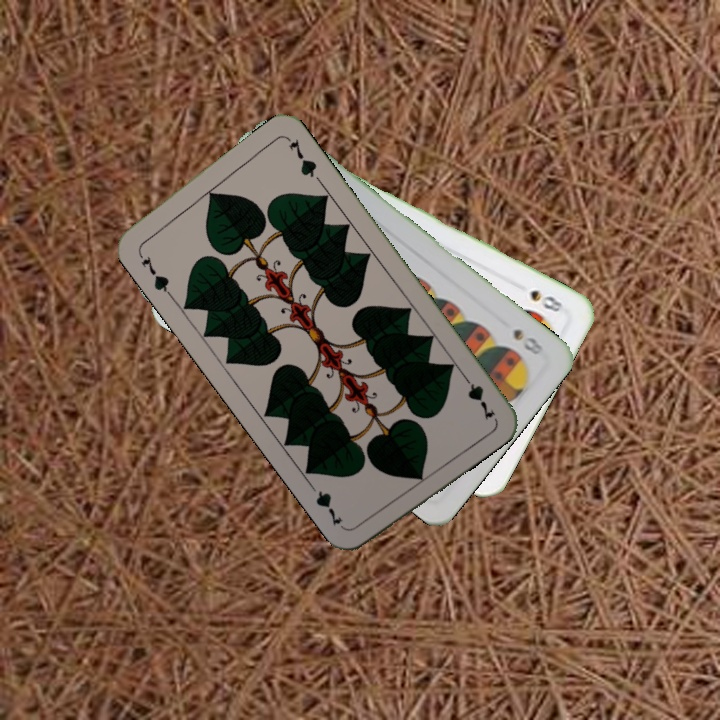G7: (457, 369, 499, 423), (134, 247, 174, 299)
S8: (526, 286, 571, 315), (509, 324, 546, 358)
